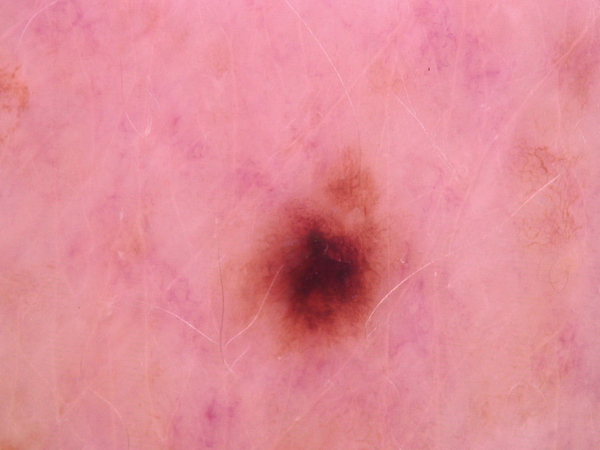Detected Lesion: (234, 146, 394, 349)
